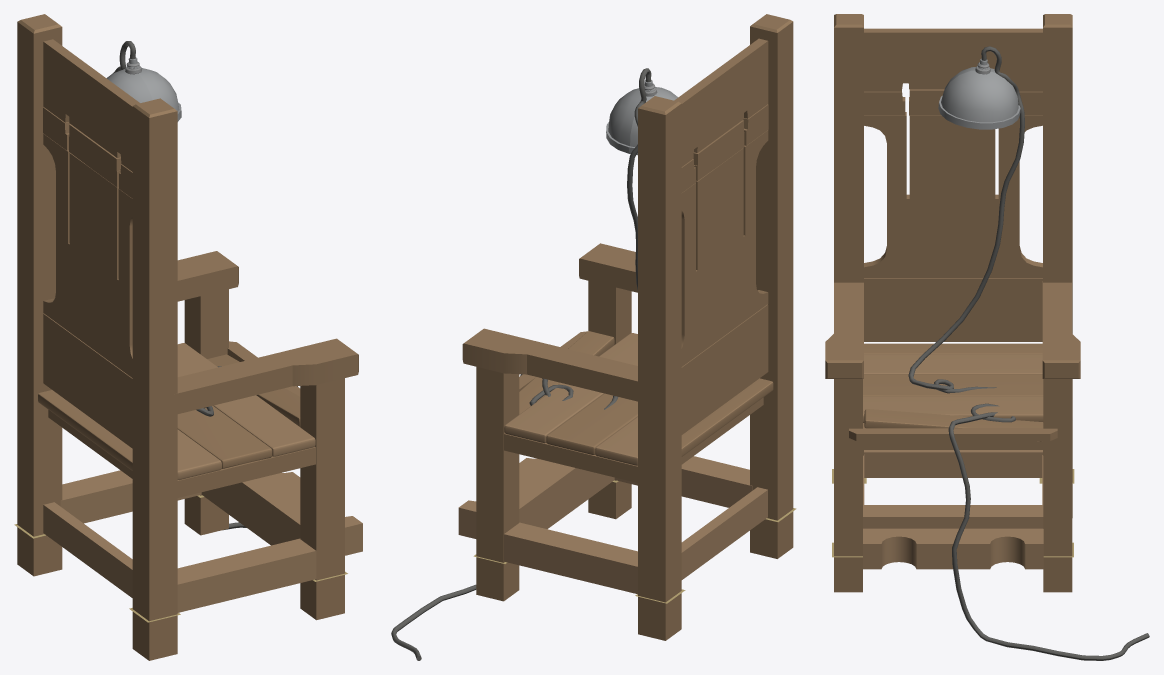
File: cadeiraELETRICA.fbx
The picture shows the model from 3 angles, left to right: view 1: azimuth 30°, elevation 25°; view 2: azimuth 150°, elevation 25°; view 3: azimuth 270°, elevation 25°; orthographic projection. The views are drawn at different scales.
Visible parts, largest first — view 1: pCube87, pCylinder13, pCube39, pCylinder12; view 2: pCube87, pCylinder12, pCylinder13, pCube39; view 3: pCube87, pCylinder12, pCylinder13, pCube39.
Part boxes in pixels (x1=…): pCube87: x1=14, y1=14, x2=362, y2=660; pCylinder13: x1=106, y1=57, x2=181, y2=121; pCube39: x1=207, y1=354, x2=300, y2=426; pCylinder12: x1=113, y1=41, x2=297, y2=530; pCube87: x1=458, y1=14, x2=796, y2=640; pCylinder12: x1=391, y1=68, x2=651, y2=660; pCylinder13: x1=606, y1=79, x2=677, y2=155; pCube39: x1=519, y1=331, x2=614, y2=414; pCube87: x1=825, y1=14, x2=1080, y2=592; pCylinder12: x1=908, y1=46, x2=1149, y2=660; pCylinder13: x1=938, y1=58, x2=1020, y2=129; pCube39: x1=864, y1=409, x2=1043, y2=441.
Size of the model in its own units: 227 by 480 by 264.
